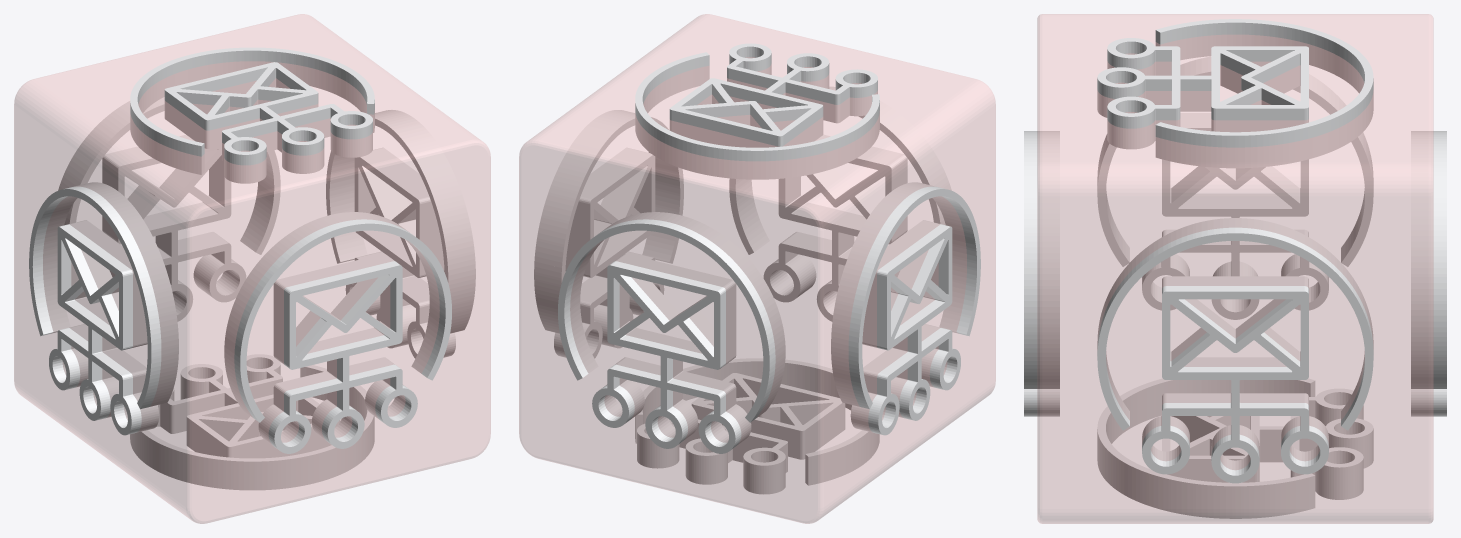
Rendered from ses.glb.
3 renders of one model, left to right at view 1: azimuth 30°, elevation 25°; view 2: azimuth 150°, elevation 25°; view 3: azimuth 270°, elevation 25°, orthographic. The views are drawn at different scales.
Parts seen in each view (by area): view 1: Glass, Glyph Front, Glyph Left, Glyph Top, Glyph Right, Glyph Bottom, Glyph Back; view 2: Glass, Glyph Back, Glyph Left, Glyph Top, Glyph Right, Glyph Bottom, Glyph Front; view 3: Glass, Glyph Right, Glyph Top, Glyph Bottom, Glyph Left, Glyph Front, Glyph Back.
Part boxes in pixels (x1=…): Glass: x1=14, y1=14, x2=490, y2=523; Glyph Front: x1=224, y1=212, x2=451, y2=453; Glyph Left: x1=29, y1=182, x2=178, y2=435; Glyph Top: x1=130, y1=47, x2=374, y2=183; Glyph Right: x1=326, y1=110, x2=475, y2=358; Glyph Bottom: x1=130, y1=354, x2=374, y2=490; Glyph Back: x1=58, y1=97, x2=280, y2=321; Glass: x1=519, y1=14, x2=995, y2=523; Glyph Back: x1=558, y1=212, x2=785, y2=453; Glyph Left: x1=831, y1=182, x2=980, y2=435; Glyph Top: x1=635, y1=43, x2=879, y2=179; Glyph Right: x1=534, y1=110, x2=683, y2=358; Glyph Bottom: x1=635, y1=358, x2=879, y2=494; Glyph Front: x1=729, y1=86, x2=951, y2=321; Glass: x1=1037, y1=14, x2=1433, y2=523; Glyph Right: x1=1097, y1=218, x2=1373, y2=483; Glyph Top: x1=1097, y1=19, x2=1373, y2=168; Glyph Bottom: x1=1097, y1=378, x2=1373, y2=518; Glyph Left: x1=1097, y1=56, x2=1373, y2=319; Glyph Front: x1=1024, y1=131, x2=1059, y2=416; Glyph Back: x1=1411, y1=131, x2=1446, y2=416.
Bounding box in the file's own units: 2.13 × 2.13 × 2.13.
